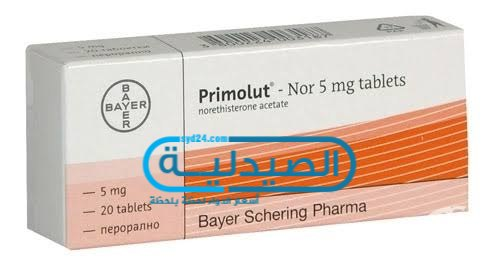Medicine: (22, 12, 487, 255)
